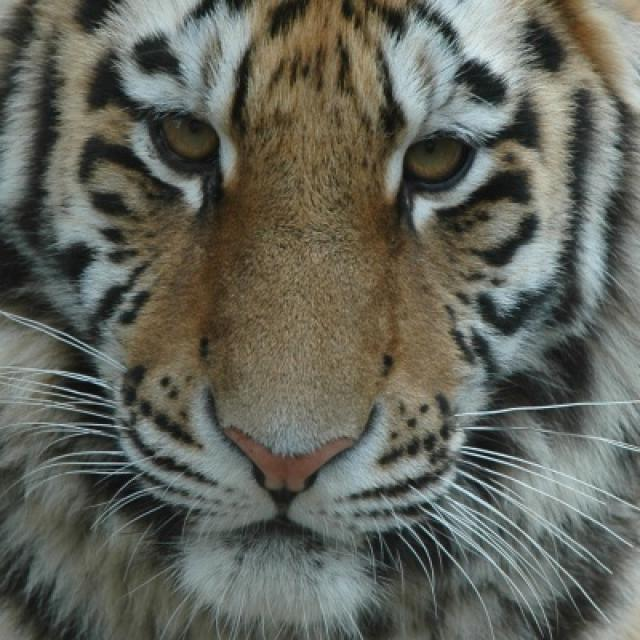Tiger: (1, 2, 634, 629)
